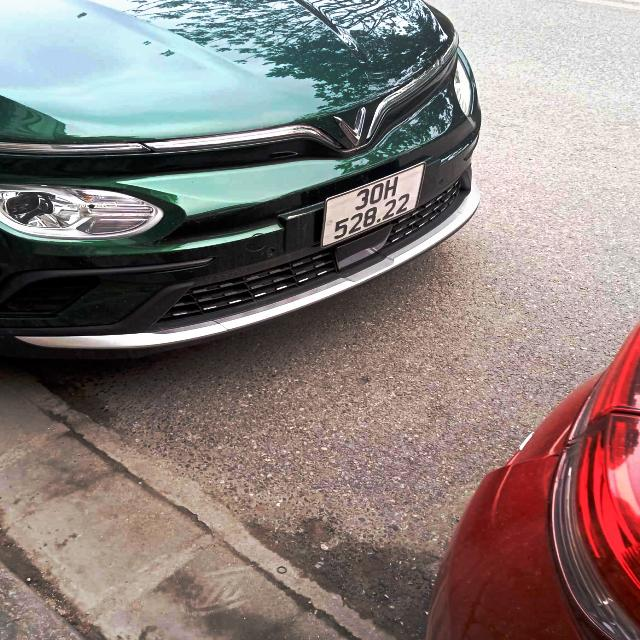license_plate: (320, 162, 434, 252)
